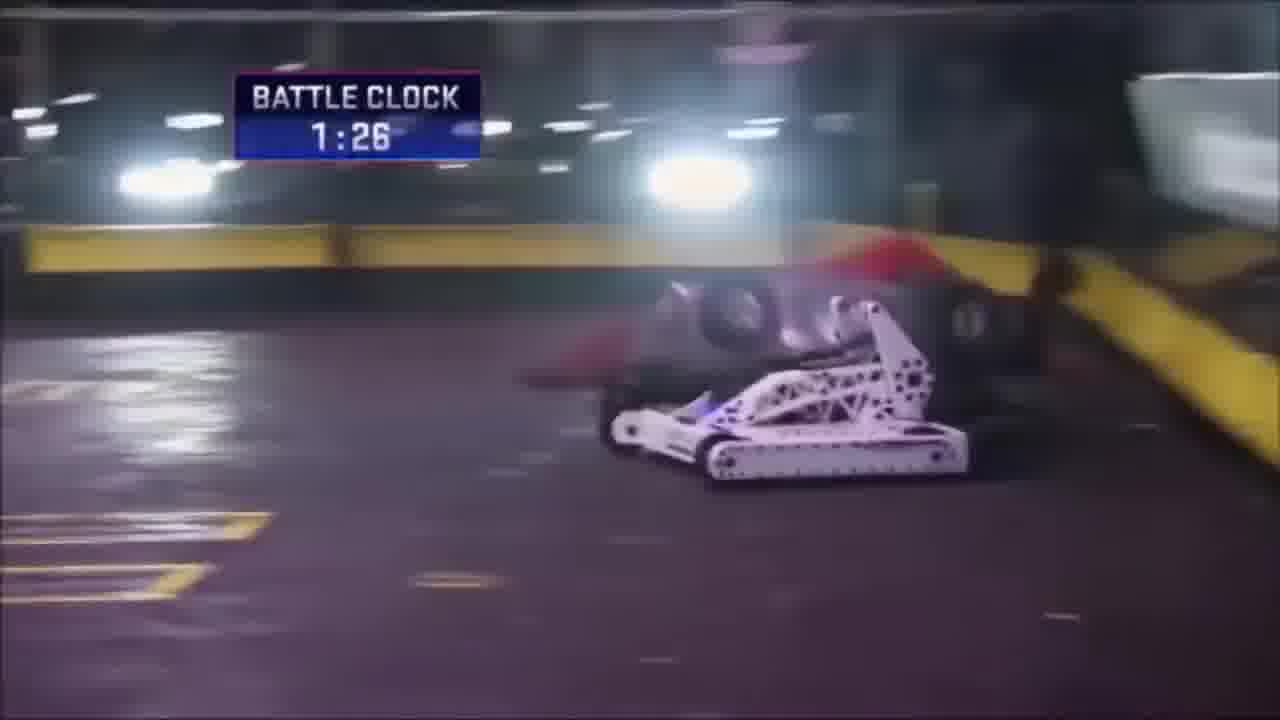combatbot: (597, 294, 980, 485)
